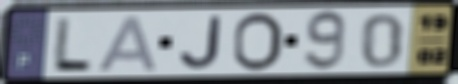0: (358, 12, 407, 69)
9: (300, 8, 349, 73)
A: (95, 14, 162, 73)
J: (176, 14, 225, 71)
L: (49, 15, 95, 73)
O: (230, 11, 285, 73)
